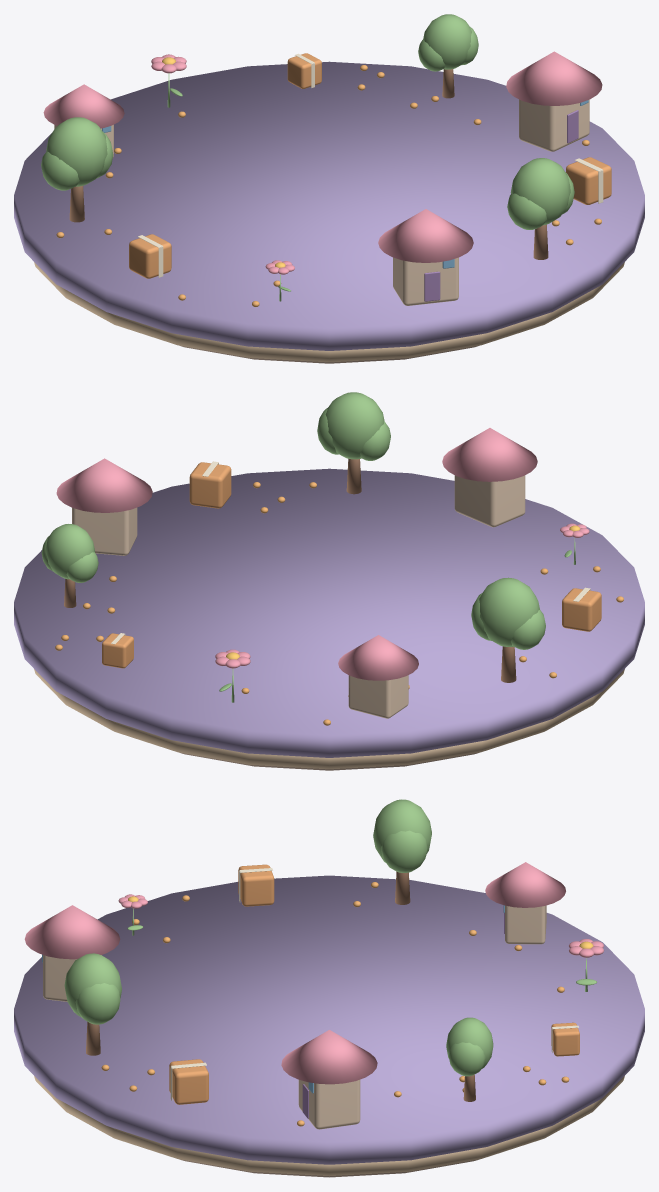
File: world.glb
3 renders of one model, top to bottom at view 1: azimuth 30°, elevation 25°; view 2: azimuth 150°, elevation 25°; view 3: azimuth 270°, elevation 25°, orthographic.
Visible parts, largest first — view 1: Cone, house.001, Cone.001, house.003, tree.002, tree.003, tree.001, house.002, parcel.003, parcel.002, parcel.001, flower.001 (+1 smaller); view 2: Cone, house.003, Cone.001, house.001, house.002, tree.002, tree.003, tree.001, parcel.003, parcel.002, parcel.001, flower.001; view 3: Cone, Cone.001, house.001, house.003, house.002, tree.002, tree.003, tree.001, parcel.003, parcel.002, parcel.001, flower.001.
Boxes of the visible parts, x1,y1,x2,y2 form: Cone: (14,61,644,350); house.001: (506,51,602,151); Cone.001: (34,262,624,362); house.003: (378,209,473,305); tree.002: (41,117,113,222); tree.003: (507,158,574,259); tree.001: (418,14,478,98); house.002: (43,84,124,157); parcel.003: (566,157,611,204); parcel.002: (129,234,171,278); parcel.001: (287,53,321,88); flower.001: (151,54,186,107); Cone: (14,468,644,757); house.003: (442,428,537,527); Cone.001: (34,669,624,769); house.001: (56,458,152,555); house.002: (338,635,418,718); tree.002: (471,577,545,682); tree.003: (317,392,390,494); tree.001: (41,524,98,607); parcel.003: (189,461,231,508); parcel.002: (562,587,601,631); parcel.001: (102,633,133,668); flower.001: (215,649,250,702); Cone: (14,875,644,1164); Cone.001: (34,1076,624,1176); house.001: (281,1030,377,1129); house.003: (24,905,120,1001); house.002: (485,862,565,944); tree.002: (373,799,431,904); tree.003: (64,953,121,1055); tree.001: (446,1017,493,1101); parcel.003: (169,1059,208,1104); parcel.002: (238,864,274,906); parcel.001: (551,1022,579,1056); flower.001: (569,938,604,991).
Size of the model in its own units: 9.6 by 2.47 by 9.6.
